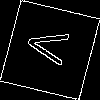V: (24, 25, 79, 69)
